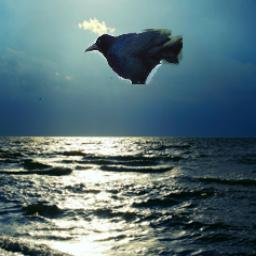Crow: (83, 29, 183, 84)
